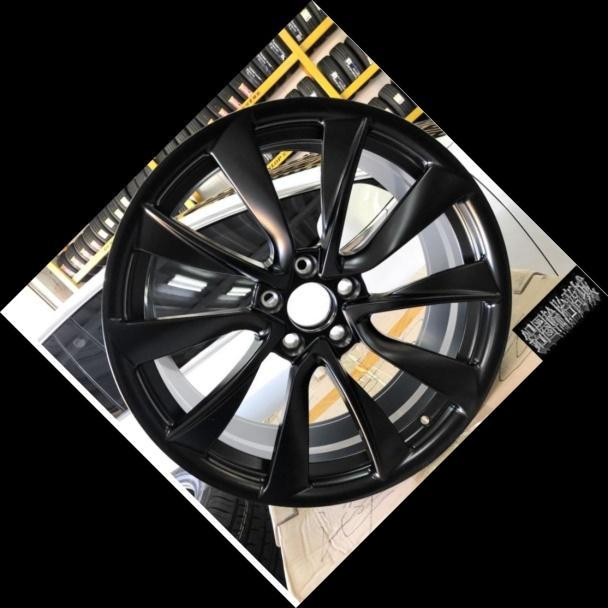hole: (330, 268, 365, 303), (275, 324, 310, 359), (254, 283, 287, 316), (288, 249, 320, 282), (323, 317, 355, 349)
